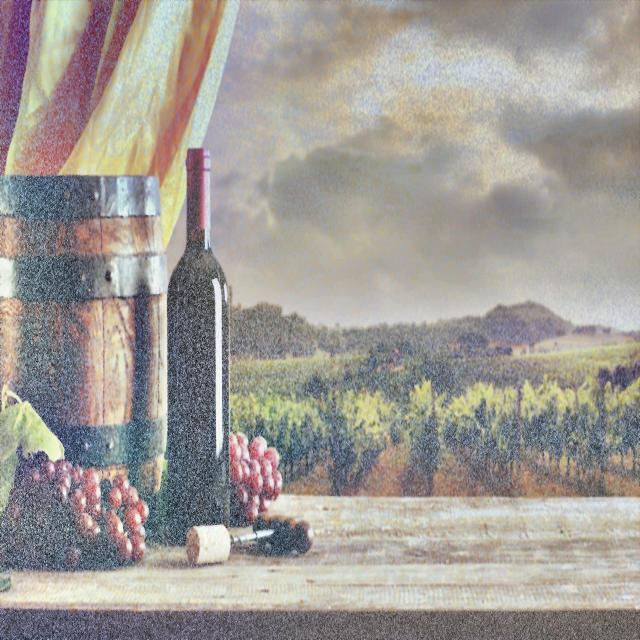cork: (181, 516, 234, 574)
